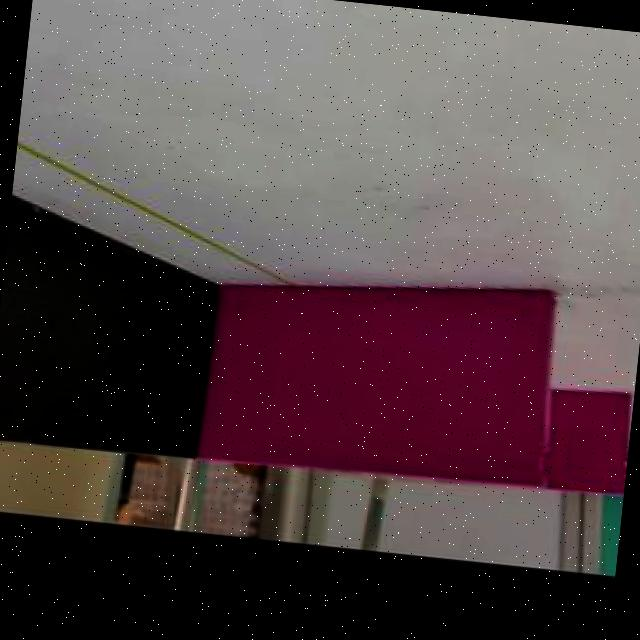xparking: (203, 261, 560, 488), (544, 389, 634, 498)
